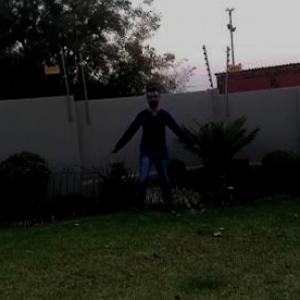land: (106, 82, 206, 214)
